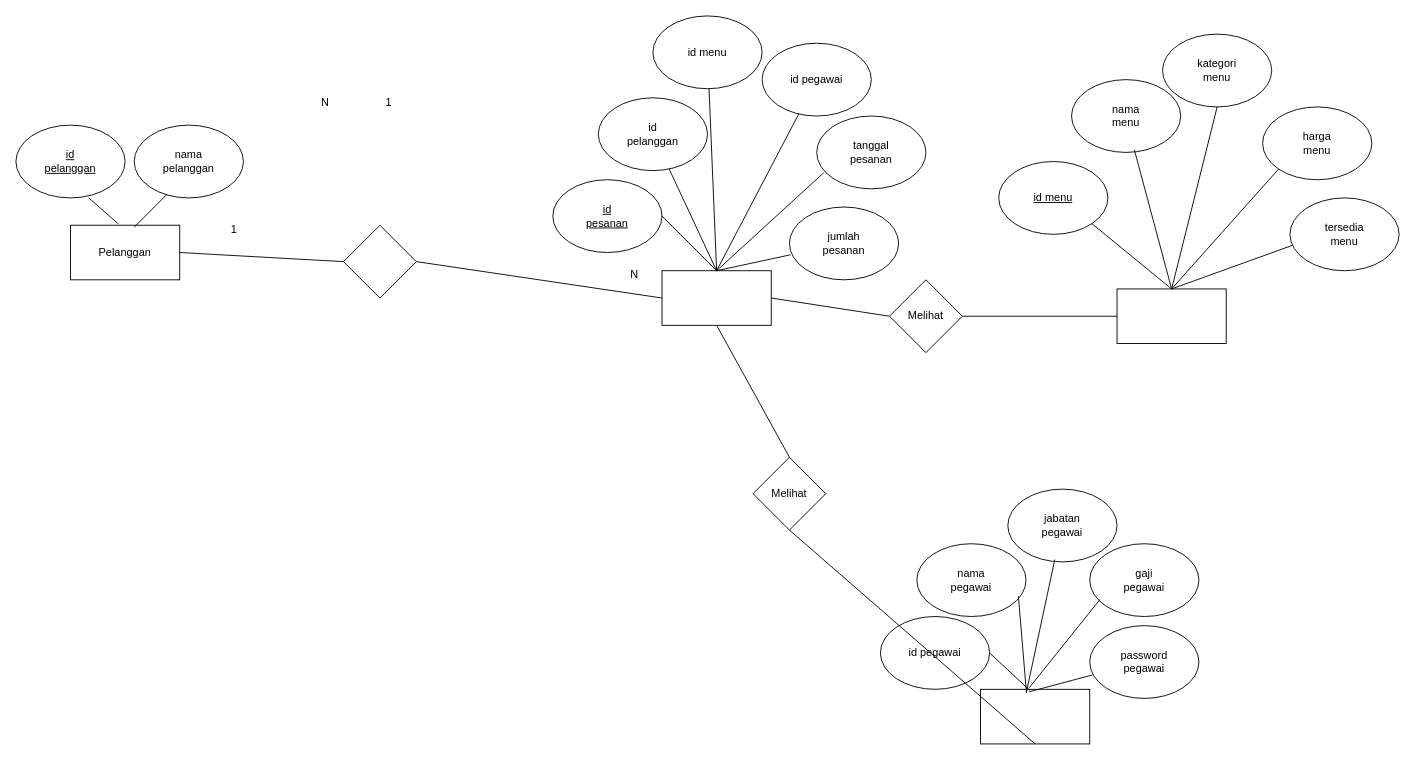
Some shapes in this 1415 by 761 pixel diagram are drawn without their labels. The centre of each missing label's shape, as x and y in pixels:
Memesan: [379,261]
Menu: [1171,316]
Pegawai: [1035,716]
Pesanan: [716,297]
